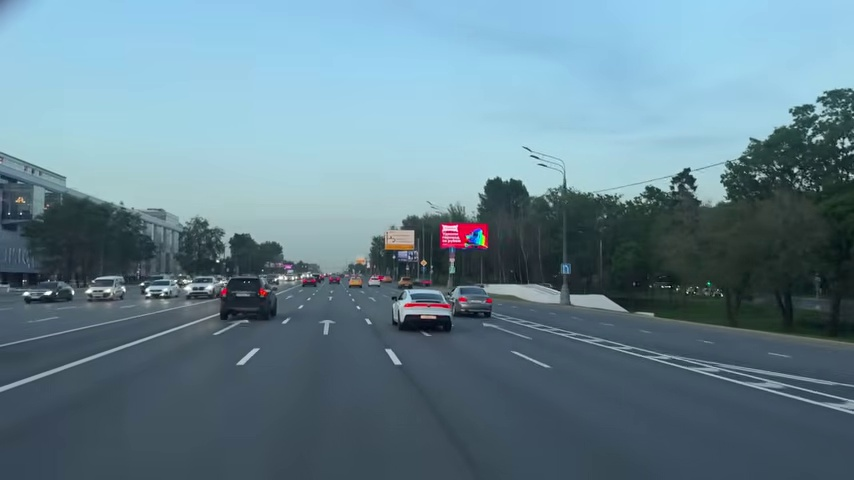apagada: (520, 143, 544, 166)
